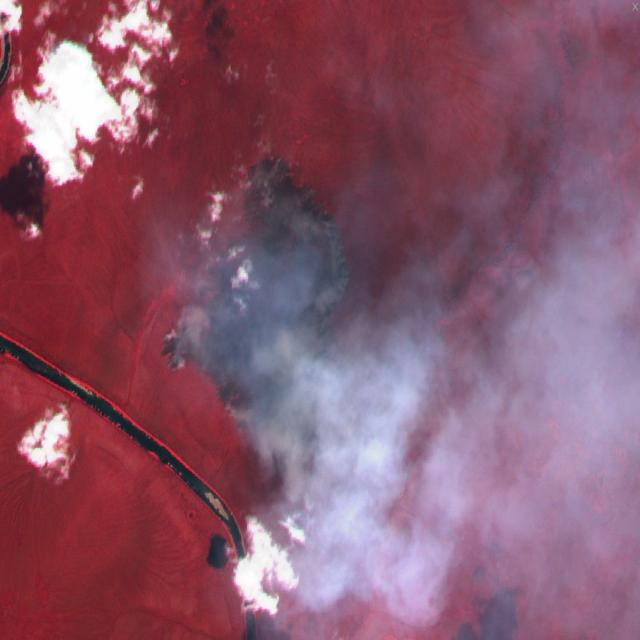fire: (156, 148, 359, 484)
